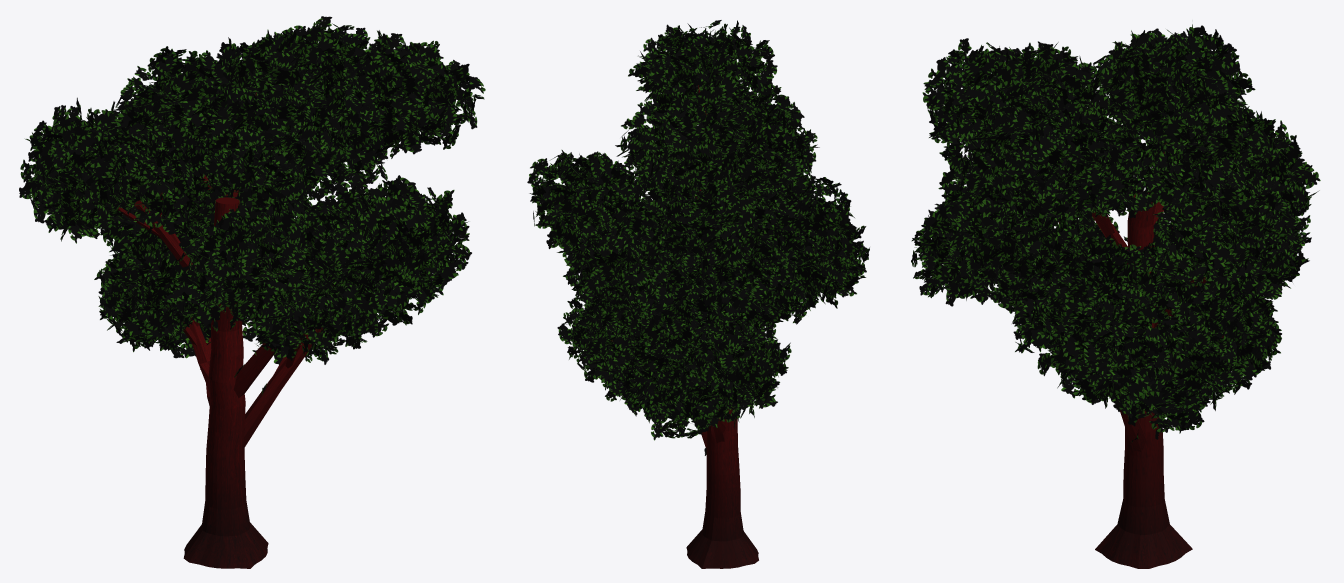
File: broadleaf_giant_v01.glb
3 views of the same model, side by side, from view 1: azimuth 30°, elevation 25°; view 2: azimuth 150°, elevation 25°; view 3: azimuth 270°, elevation 25° (orthographic). The views are drawn at different scales.
Parts seen in each view (by area): view 1: broadleaf_giant_v01; view 2: broadleaf_giant_v01; view 3: broadleaf_giant_v01.
Part boxes in pixels (x1,y1,x2,y2): broadleaf_giant_v01: (19,16,485,568); broadleaf_giant_v01: (527,20,869,568); broadleaf_giant_v01: (911,24,1320,568).
Bounding box in the file's own units: 25.18 × 32.68 × 22.93.
Materials: 2 (2 with a texture image).
